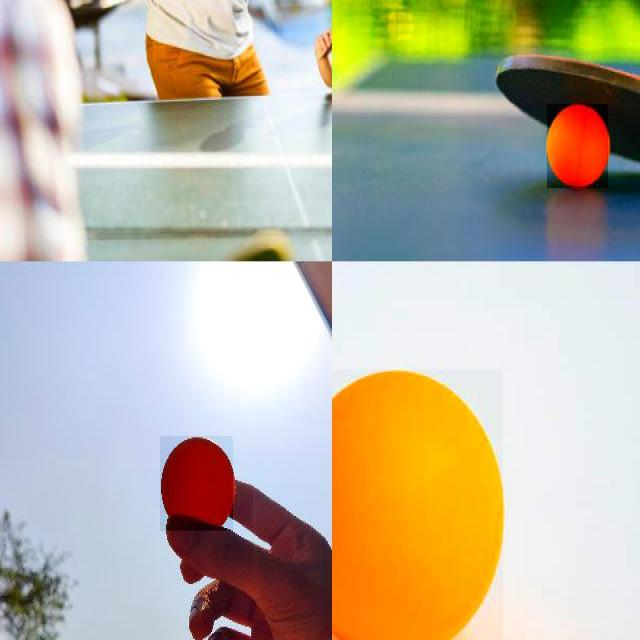ping-pong-ball: (332, 368, 505, 639), (160, 436, 234, 532), (546, 104, 610, 189)
